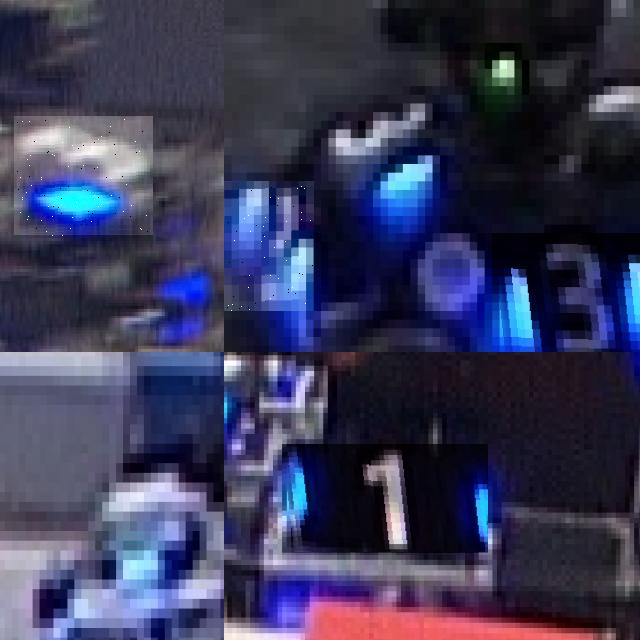B1: (282, 444, 488, 554)
B3: (492, 233, 640, 352), (14, 116, 153, 236), (224, 181, 314, 311)
